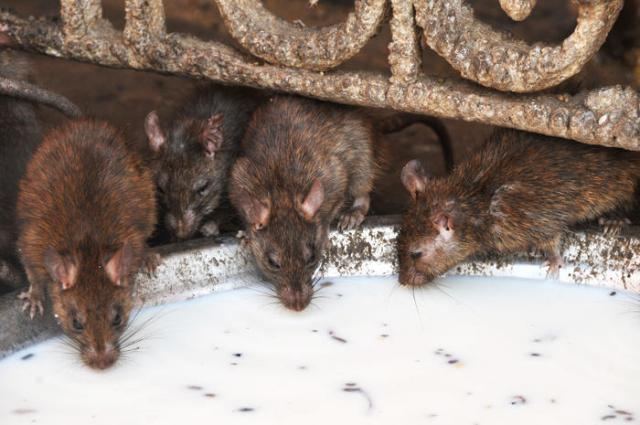rat: (9, 97, 164, 384), (220, 98, 378, 316), (390, 130, 590, 290), (140, 86, 254, 248)
